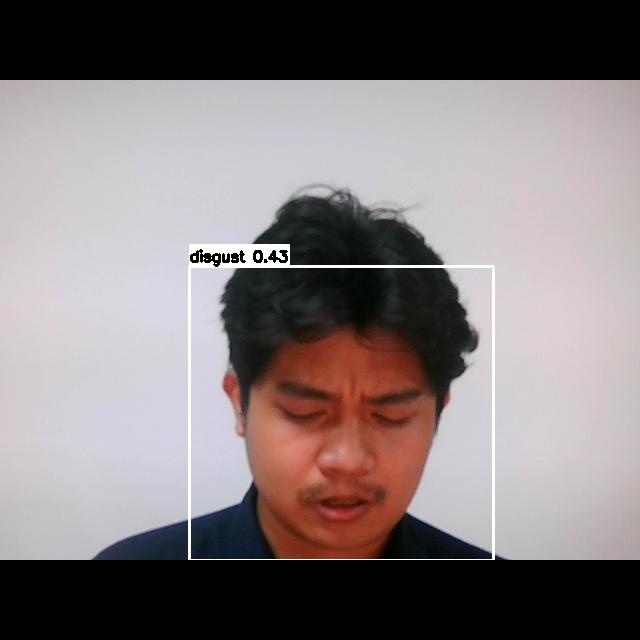Angry: (217, 342, 452, 544)
